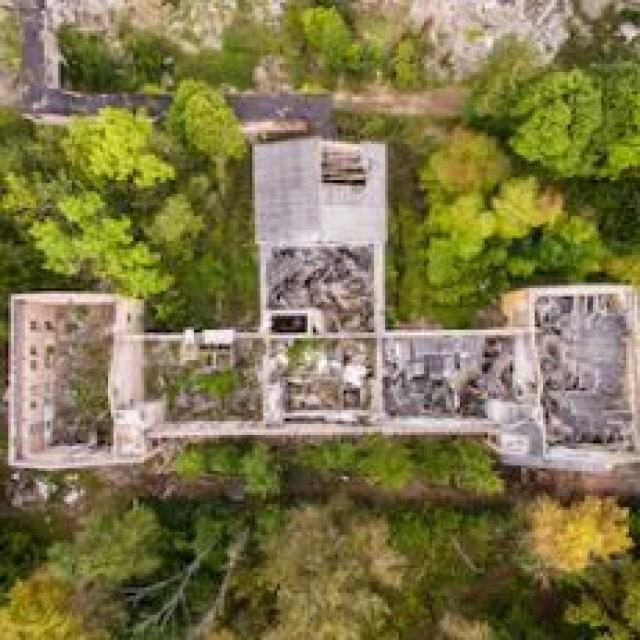collapsed_building: (11, 133, 637, 457)
